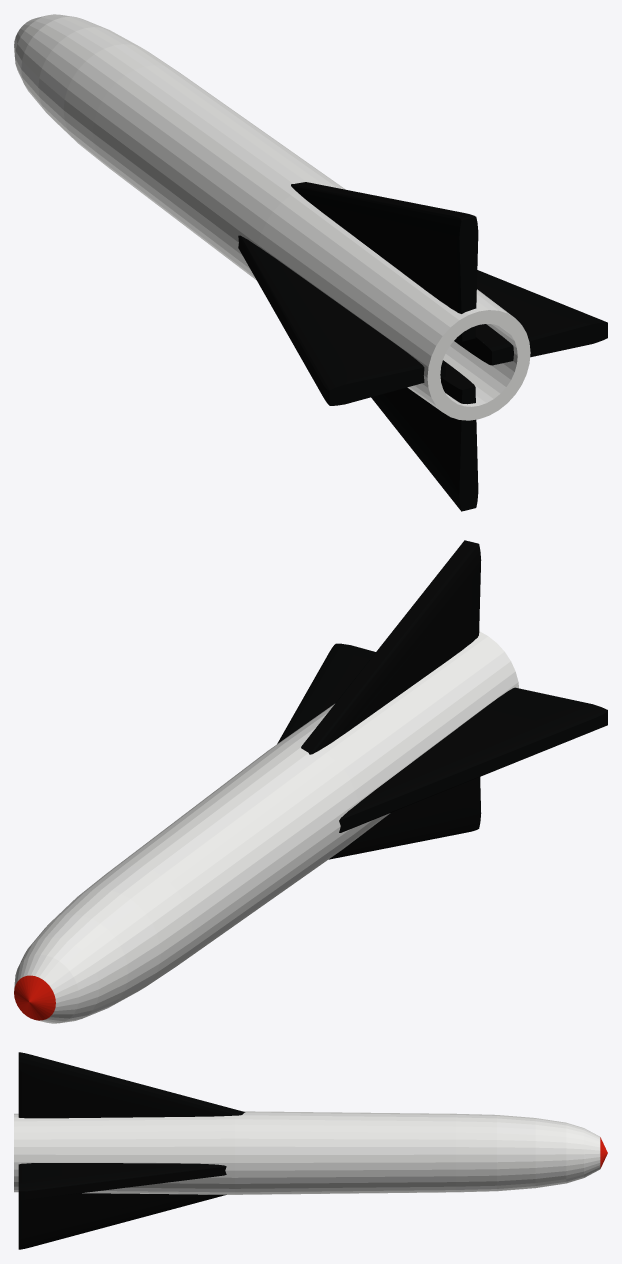
The model's file is missile.fbx.
3 views of the same model, one above another, from view 1: azimuth 30°, elevation 25°; view 2: azimuth 150°, elevation 25°; view 3: azimuth 270°, elevation 25° (orthographic). The views are drawn at different scales.
Parts seen in each view (by area): view 1: Wings.001; view 2: Wings.001; view 3: Wings.001.
Boxes of the visible parts, x1,y1,x2,y2 form: Wings.001: [14, 14, 607, 511]; Wings.001: [14, 540, 607, 1023]; Wings.001: [14, 1052, 607, 1249].
Size of the model in its own units: 104 by 104 by 291.
